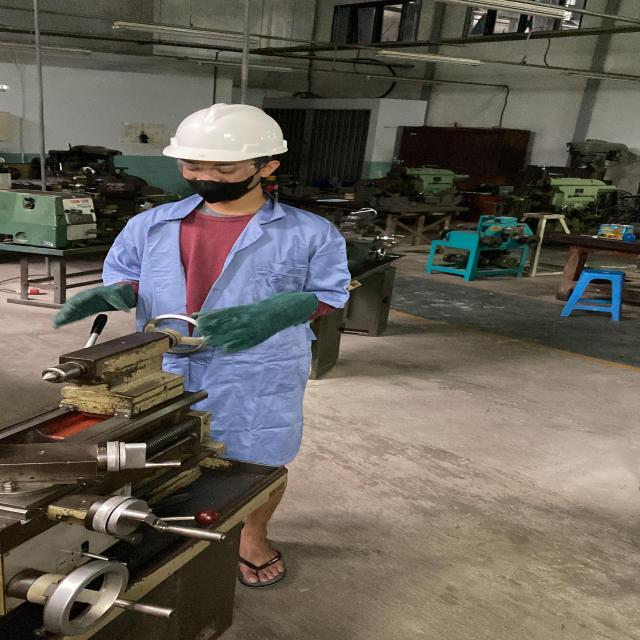face_mask: (178, 157, 258, 204)
glasses: (168, 158, 257, 178)
hand_glove: (192, 299, 283, 362), (42, 280, 142, 331)
head_helmet: (160, 101, 293, 163)
